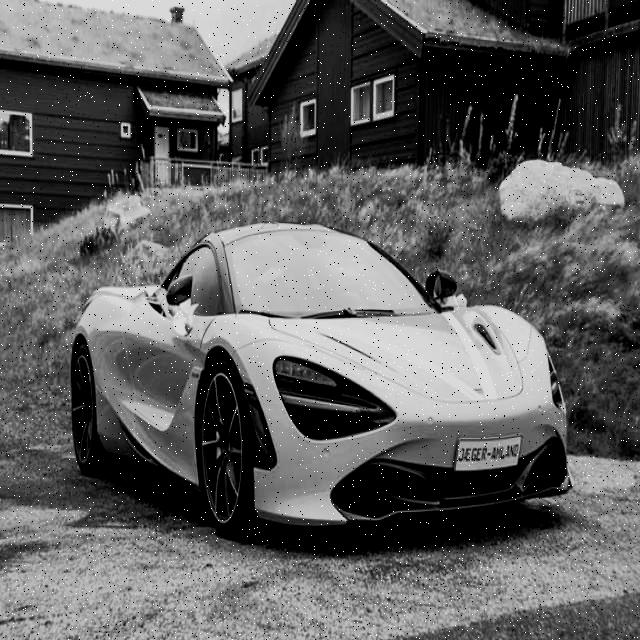Car: (67, 209, 576, 539)
